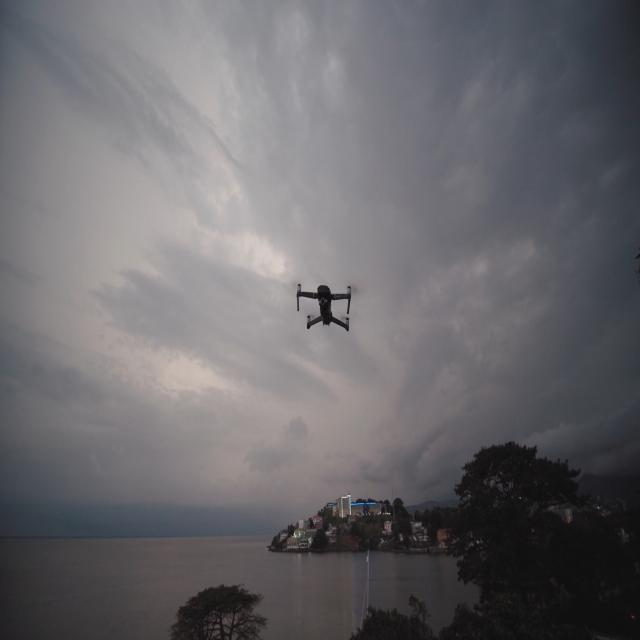drone: (296, 282, 352, 333)
